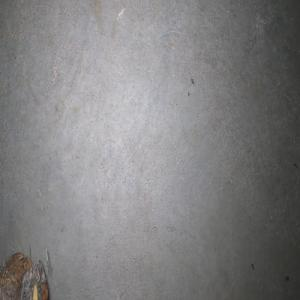Rock: (0, 245, 49, 300)
